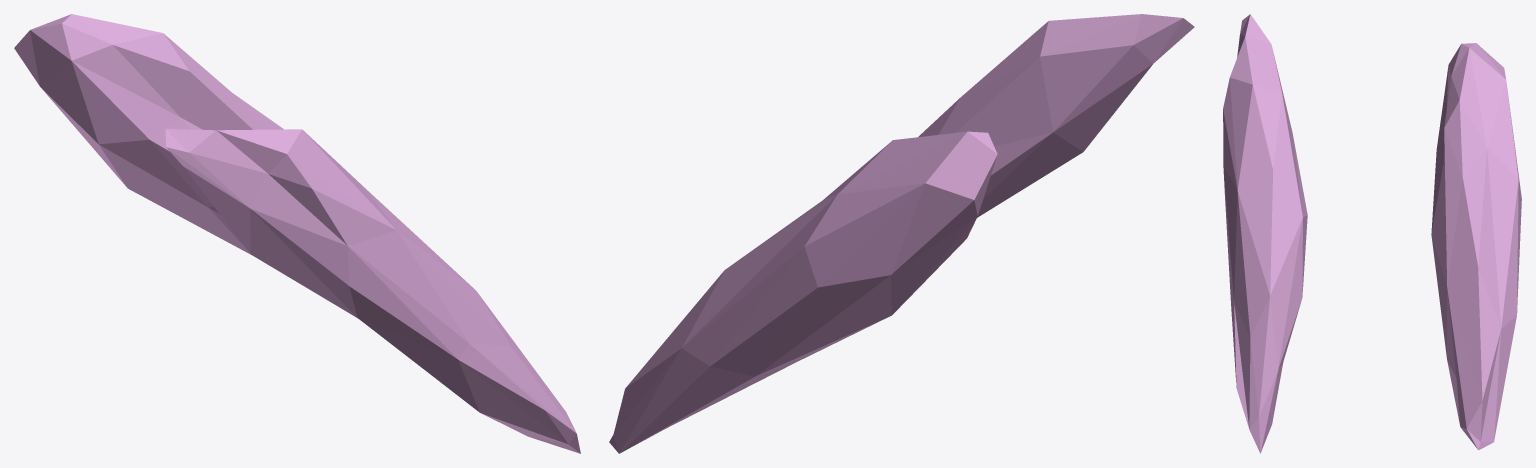
The picture shows the model from 3 angles, left to right: view 1: azimuth 30°, elevation 25°; view 2: azimuth 150°, elevation 25°; view 3: azimuth 270°, elevation 25°; orthographic projection. The views are drawn at different scales.
Visible parts, largest first — view 1: 549009211.obj; view 2: 549009211.obj; view 3: 549009211.obj.
Boxes of the visible parts, x1,y1,x2,y2 form: 549009211.obj: [14, 14, 580, 453]; 549009211.obj: [609, 14, 1194, 453]; 549009211.obj: [1223, 14, 1521, 453].
Size of the model in its own units: 325 by 308 by 280.
